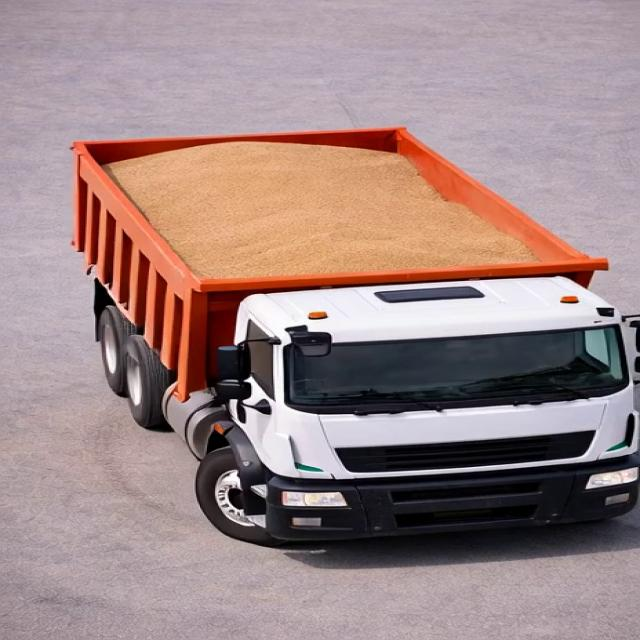Box: (39, 126, 604, 290)
Truck: (25, 94, 640, 558)
